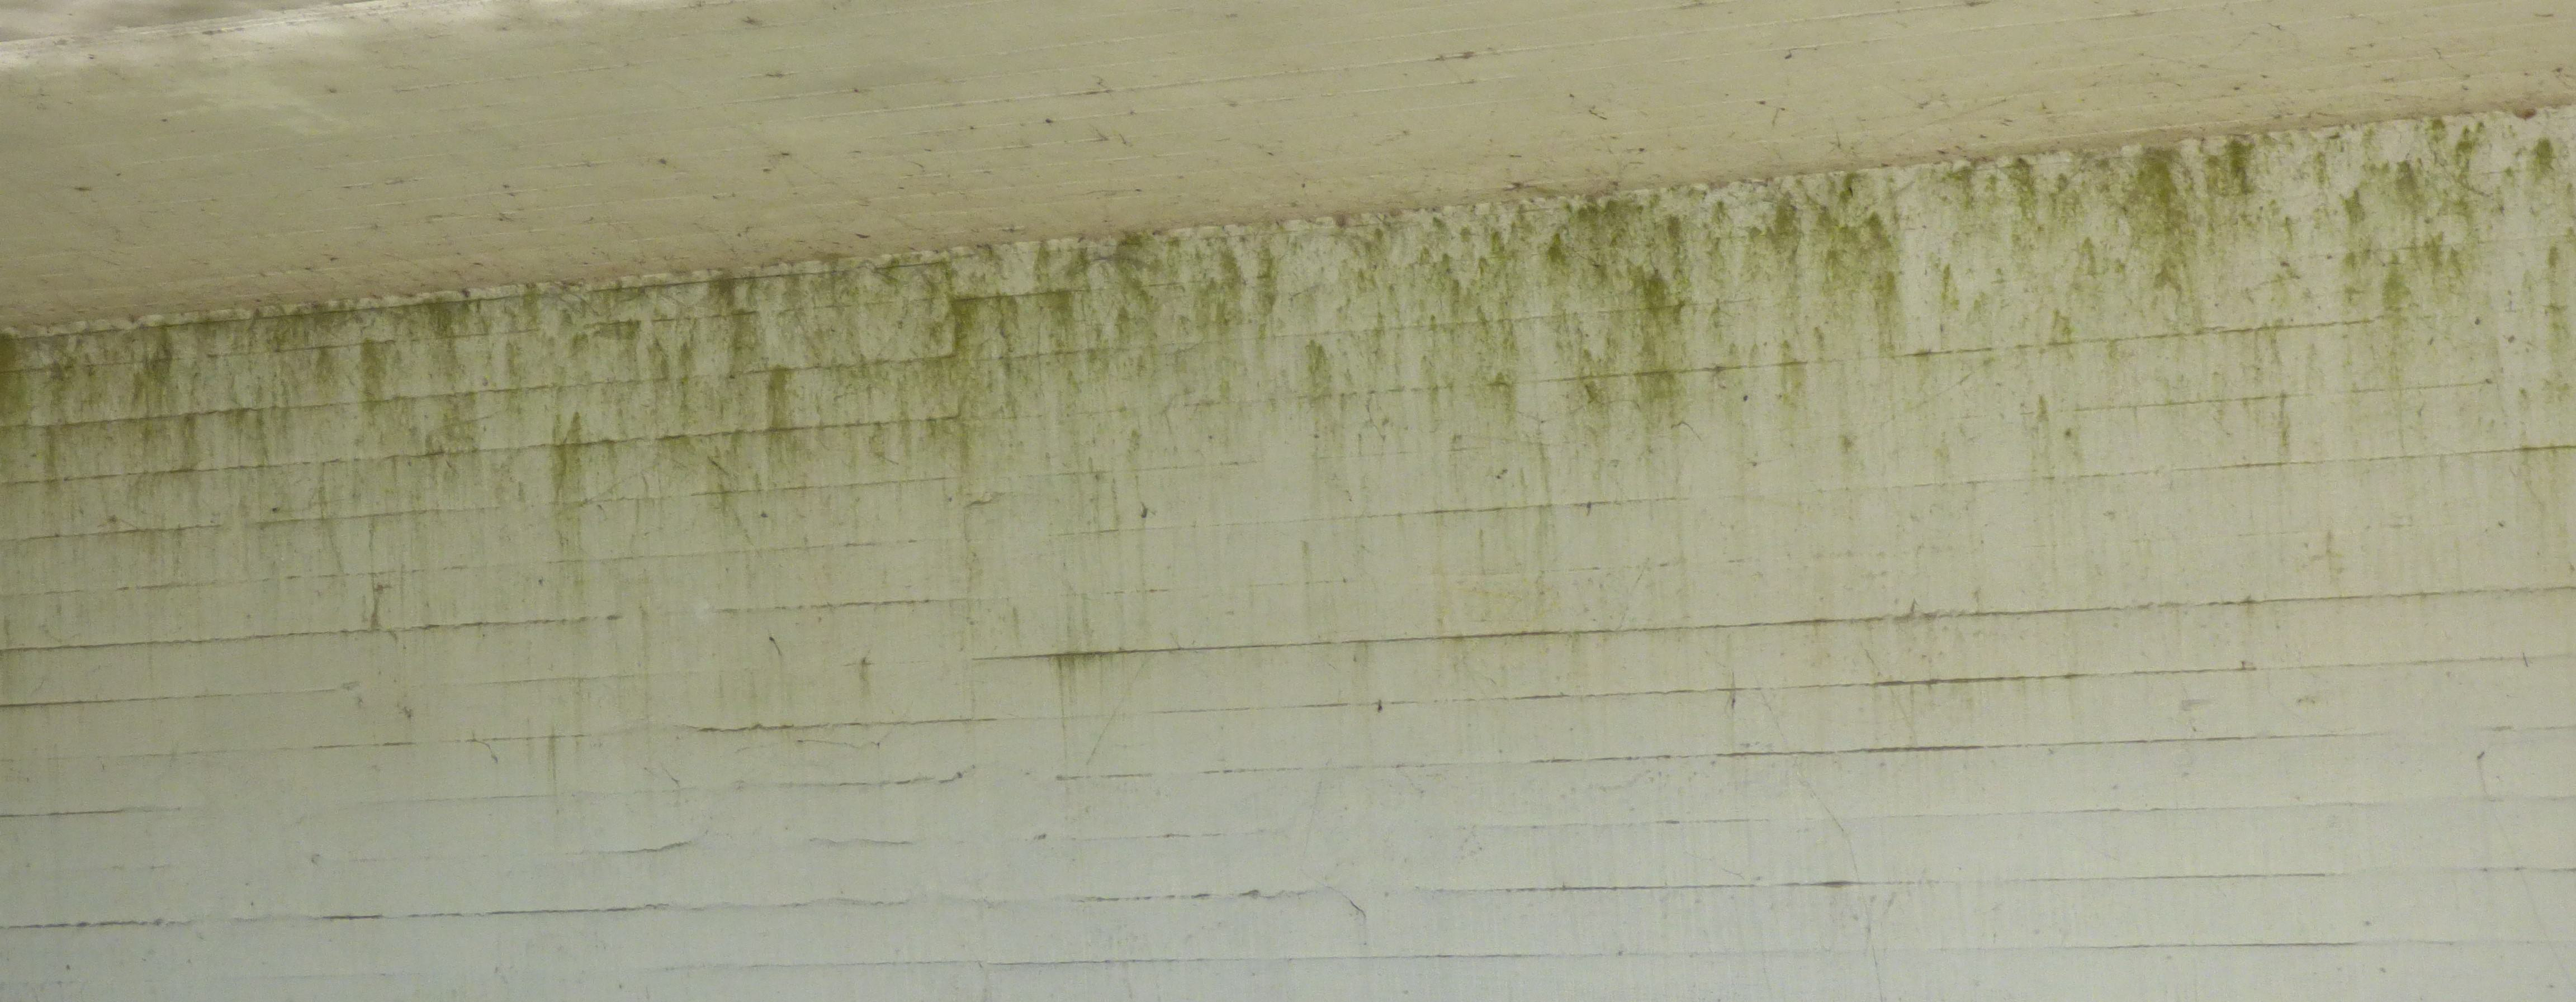Corrosion: (0, 99, 2576, 1002)
